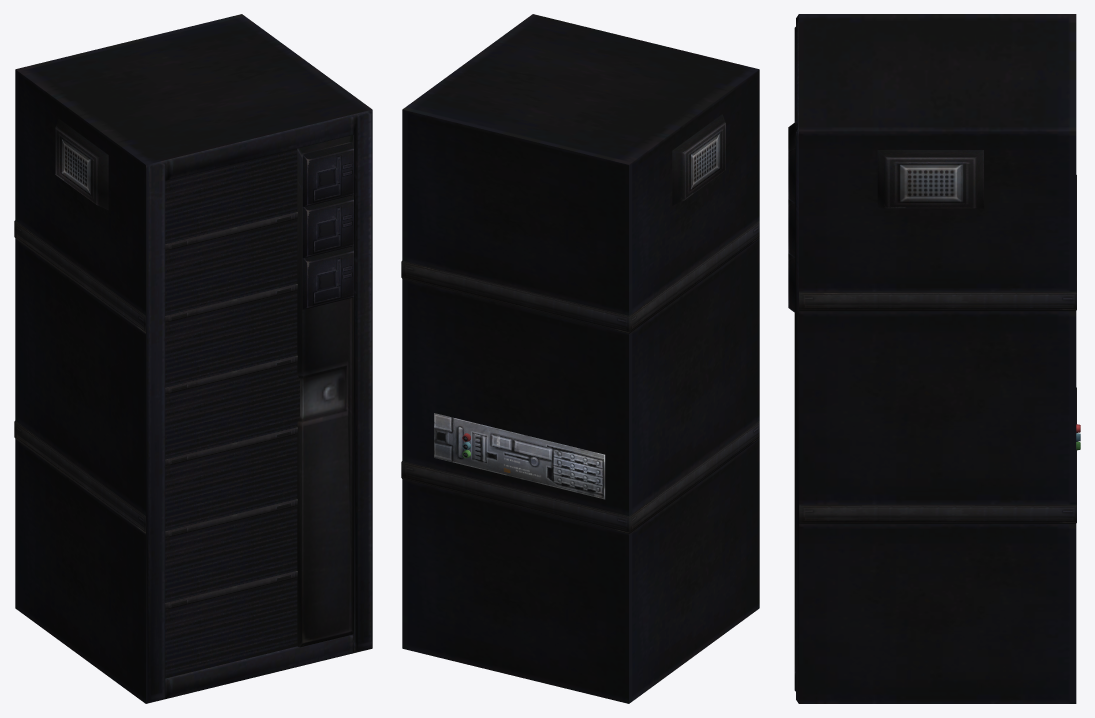
The model's file is computer_large.dae.
3 views of the same model, side by side, from view 1: azimuth 30°, elevation 25°; view 2: azimuth 150°, elevation 25°; view 3: azimuth 270°, elevation 25° (orthographic). The views are drawn at different scales.
Parts seen in each view (by area): view 1: polySurface244, polySurface242; view 2: polySurface244, polySurface242; view 3: polySurface244, polySurface242.
Boxes of the visible parts, bbox=[...] form: polySurface244: bbox=[15, 14, 372, 703]; polySurface242: bbox=[14, 119, 353, 647]; polySurface244: bbox=[402, 14, 759, 703]; polySurface242: bbox=[401, 114, 759, 534]; polySurface244: bbox=[794, 14, 1076, 703]; polySurface242: bbox=[788, 123, 1080, 668].
Bounding box in the file's own units: 102 × 218 × 101.
